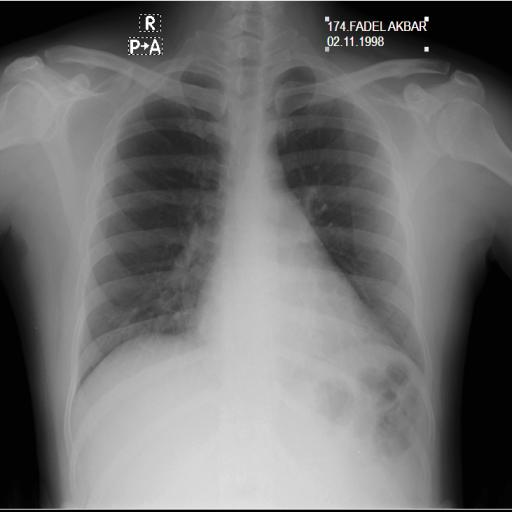kardiomegali: (64, 38, 446, 424)
